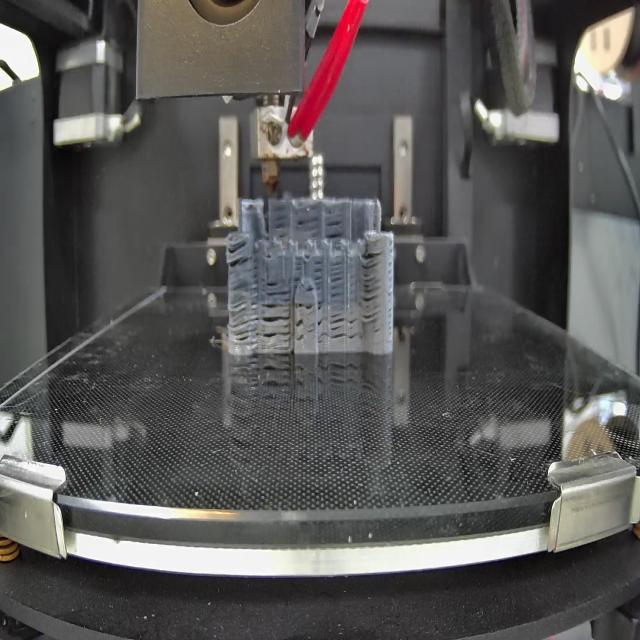cracks: (228, 282, 258, 349), (261, 298, 291, 351), (361, 248, 381, 325), (226, 238, 254, 270), (331, 256, 346, 303), (297, 212, 322, 236), (325, 215, 345, 242), (329, 313, 346, 342), (317, 298, 327, 346), (266, 278, 290, 297), (274, 215, 290, 237), (293, 255, 303, 284), (295, 317, 306, 343), (296, 298, 314, 311), (313, 260, 324, 281), (349, 316, 358, 341), (302, 282, 316, 295)
